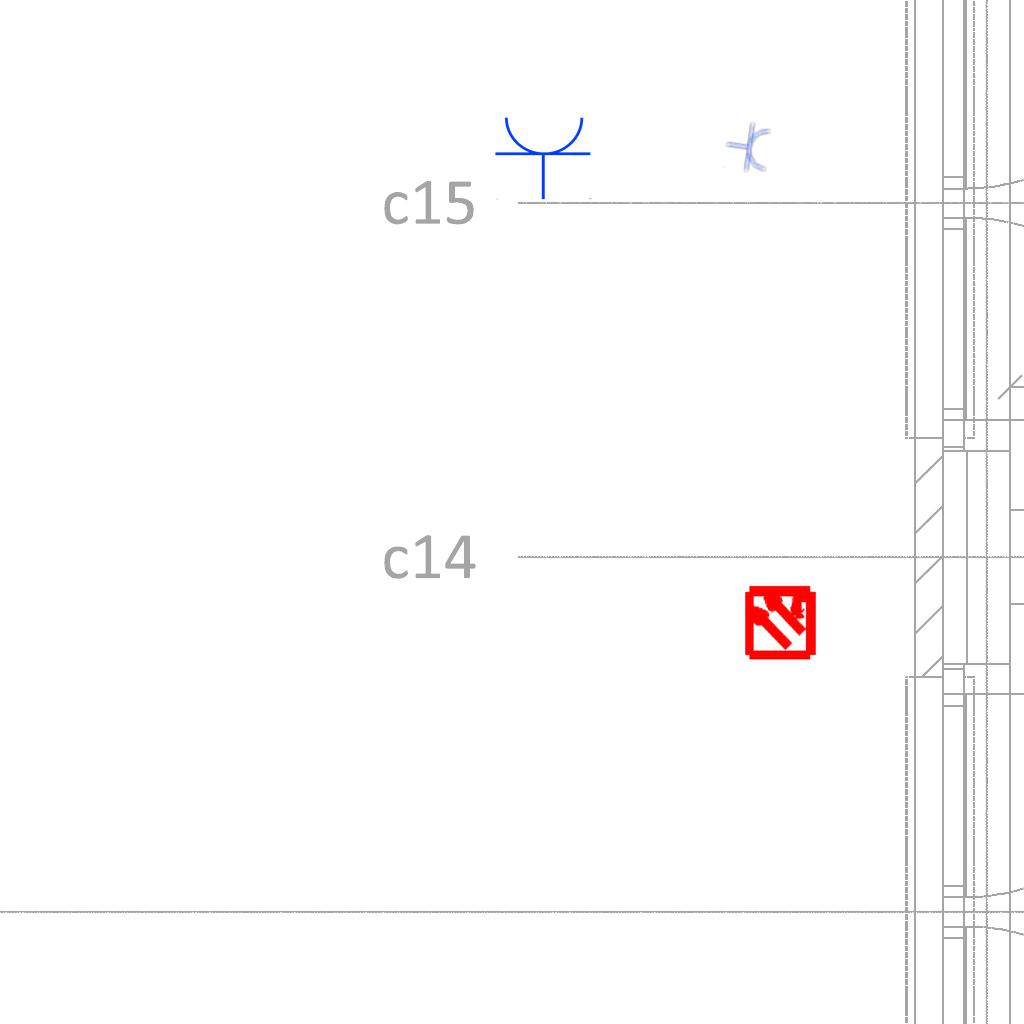OT_Multisensormelder_(Kombination_RMO_WMD): (724, 564, 837, 677)
Schukosteckdose_einfach: (494, 113, 594, 200), (723, 119, 773, 176)
